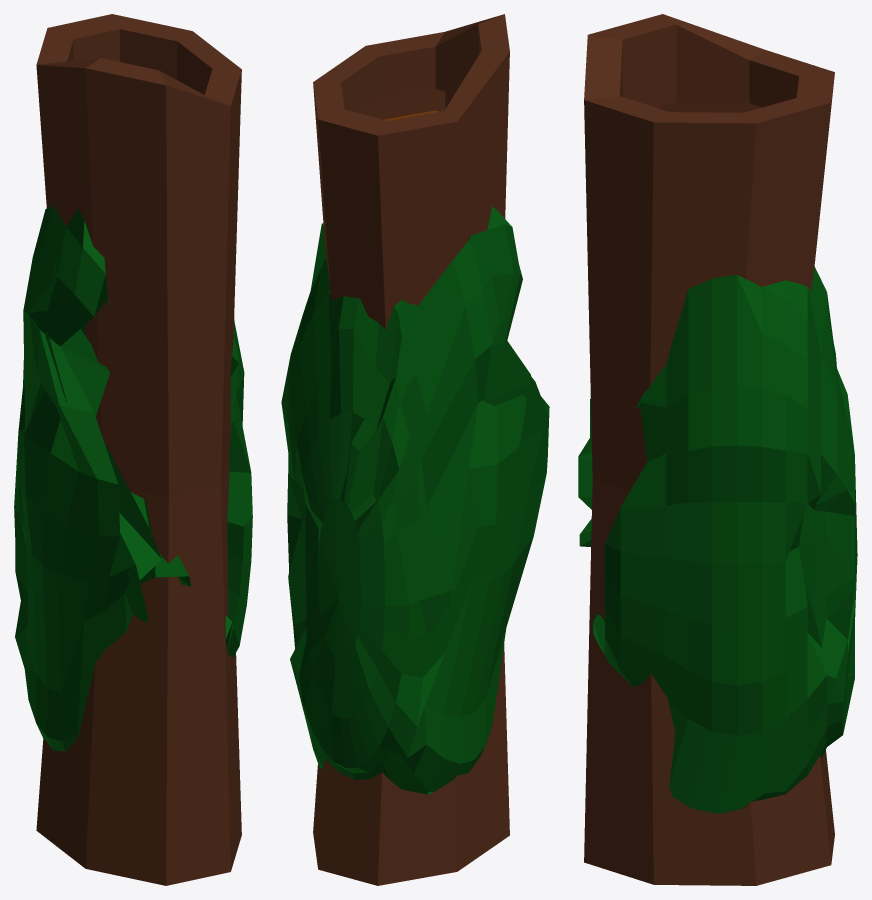
File: Trunk.fbx
3 views of the same model, side by side, from view 1: azimuth 30°, elevation 25°; view 2: azimuth 150°, elevation 25°; view 3: azimuth 270°, elevation 25° (orthographic). The views are drawn at different scales.
Visible parts, largest first — view 1: Trunk; view 2: Trunk; view 3: Trunk.
Part boxes in pixels (x1,y1,x2,y2): Trunk: (14,14,252,885); Trunk: (281,14,549,885); Trunk: (578,14,857,885).
Bounding box in the file's own units: 186 × 691 × 219.
